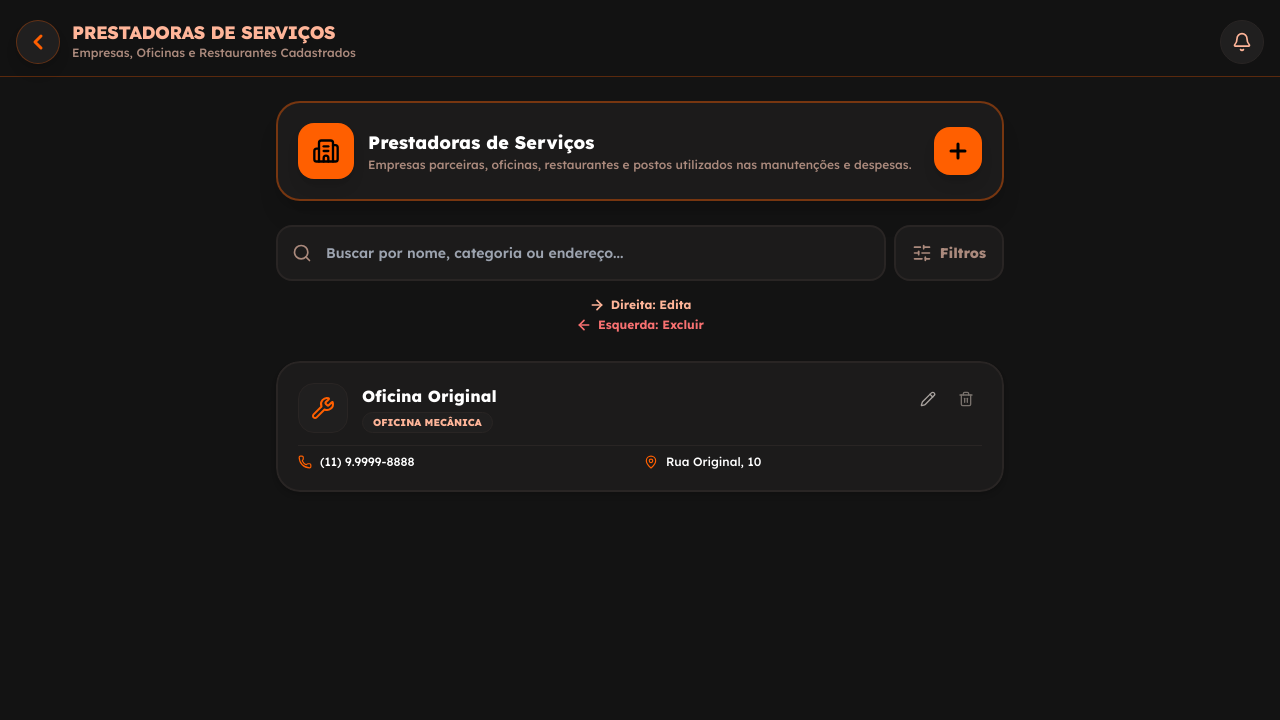
Test: Empresas.tsx — Centralização de Empresas & Prestadoras › Scenario E: edits existing company and triggers updateCompany mutation
Later steps or results of the test are not shown.
Click the button titled "Editar Empresa": (928, 399) [912,383,944,415]
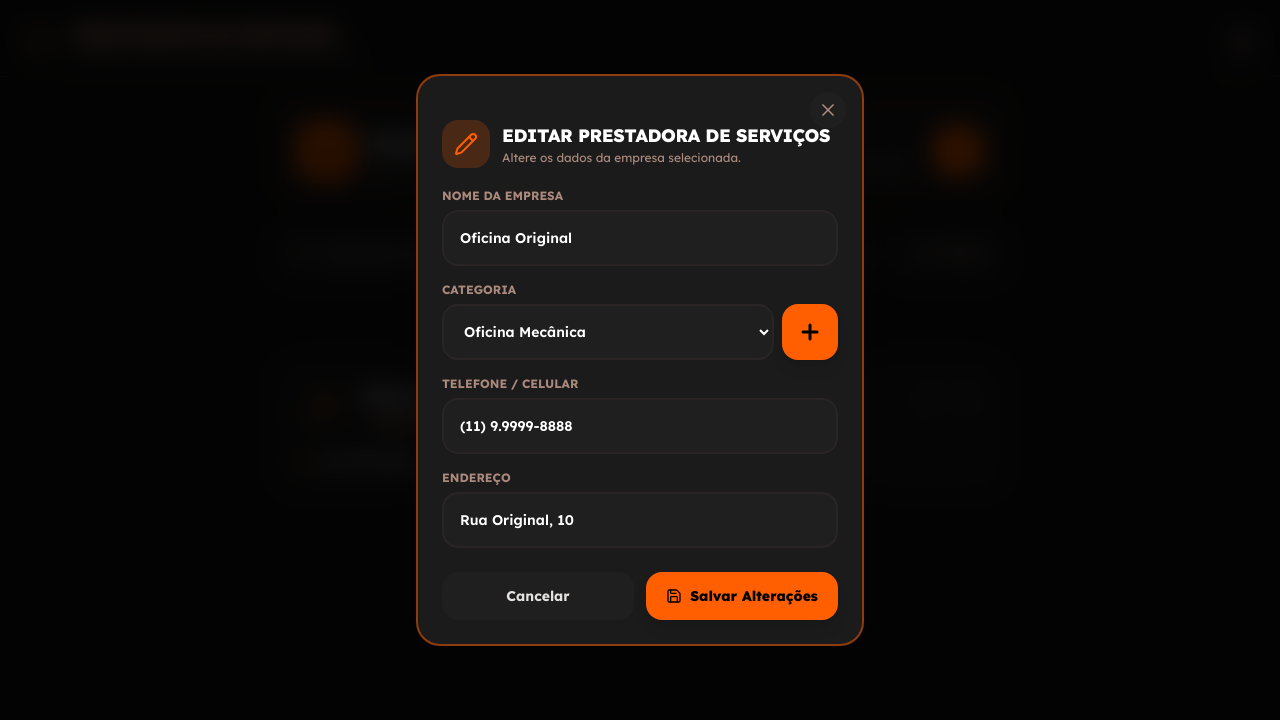
Expected: the heading "Editar Prestadora de Serviços" is shown, [502,122,830,150]
